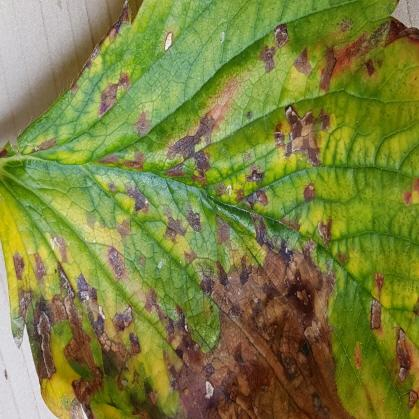Angular Leafspot: (0, 0, 418, 418)
